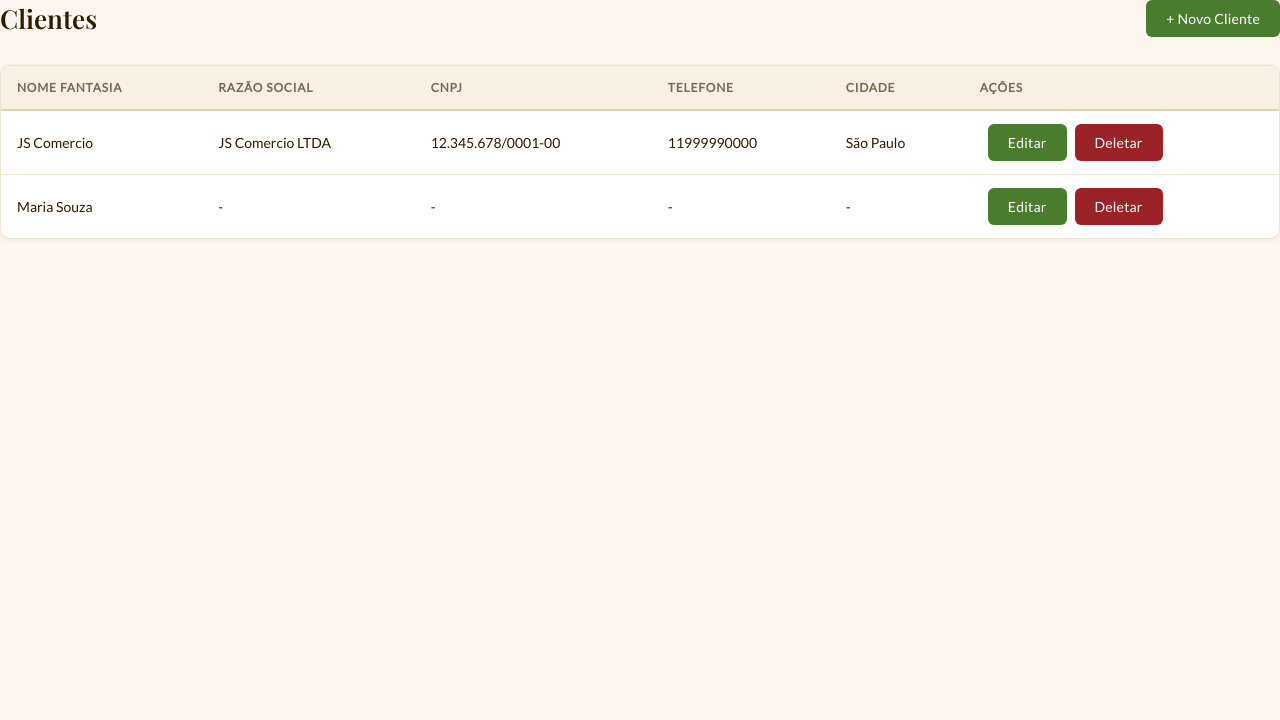
Test case: Clientes › abre modal de edição com dados do cliente
This screenshot has width=1280, height=720.
Check: the text "JS Comercio" is shown, box left=1, top=110, right=202, bottom=174
Click the button "Editar" in the row of "JS Comercio LTDA". click: coordinates (1027, 142)
box: left=988, top=124, right=1066, bottom=161
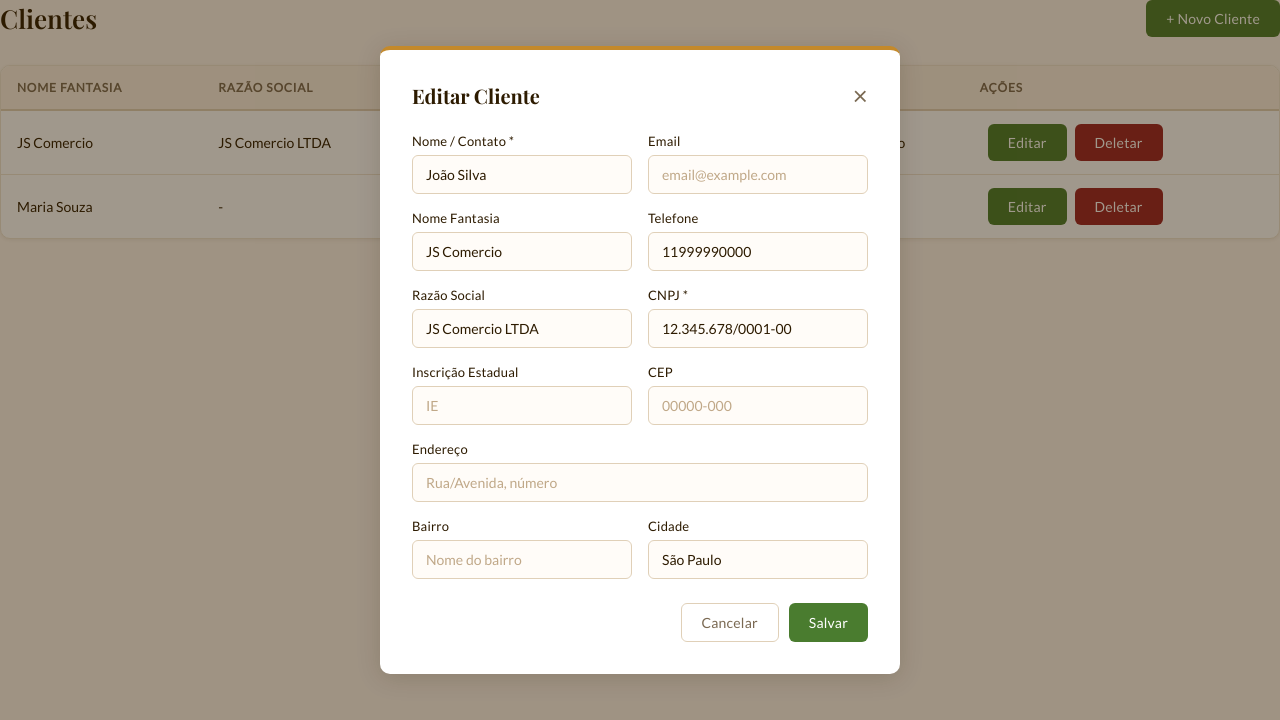
Check: the heading "Editar Cliente" is shown, box left=412, top=82, right=540, bottom=109
Check: the field showing "João Silva" below "Nome / Contato *" is shown, box left=412, top=155, right=632, bottom=194
